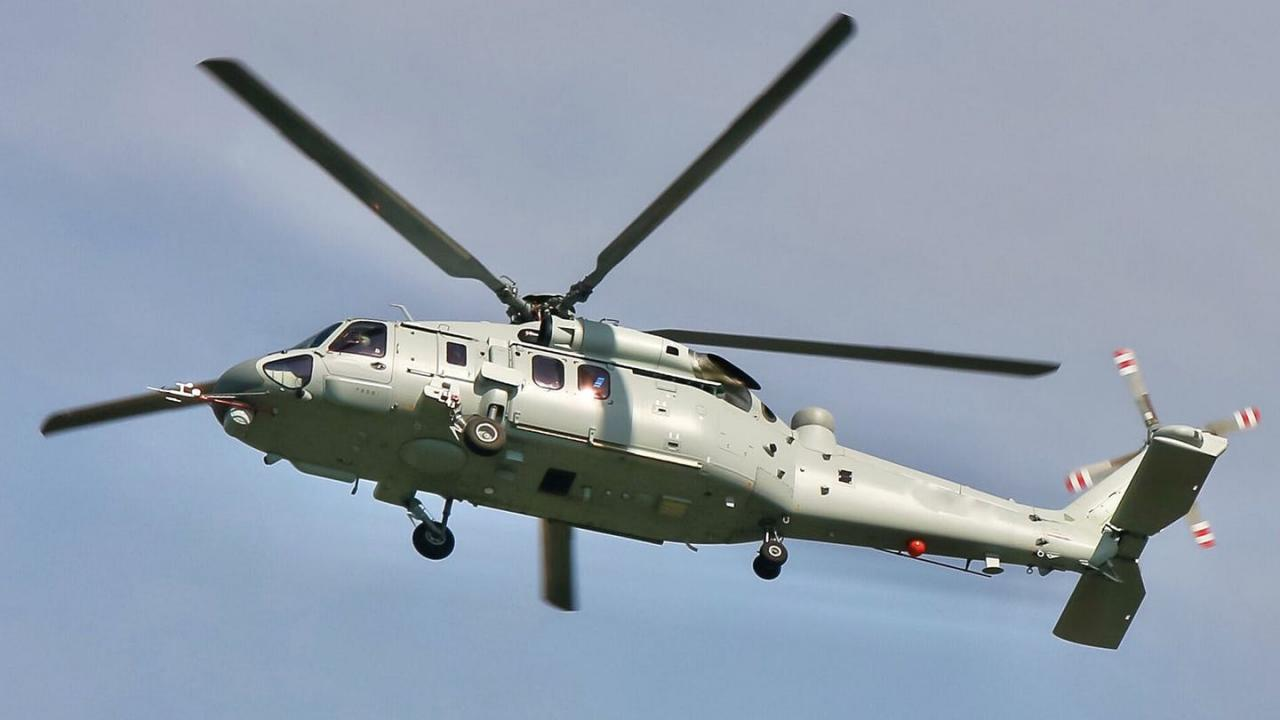Helicopter: (33, 4, 1268, 662)
